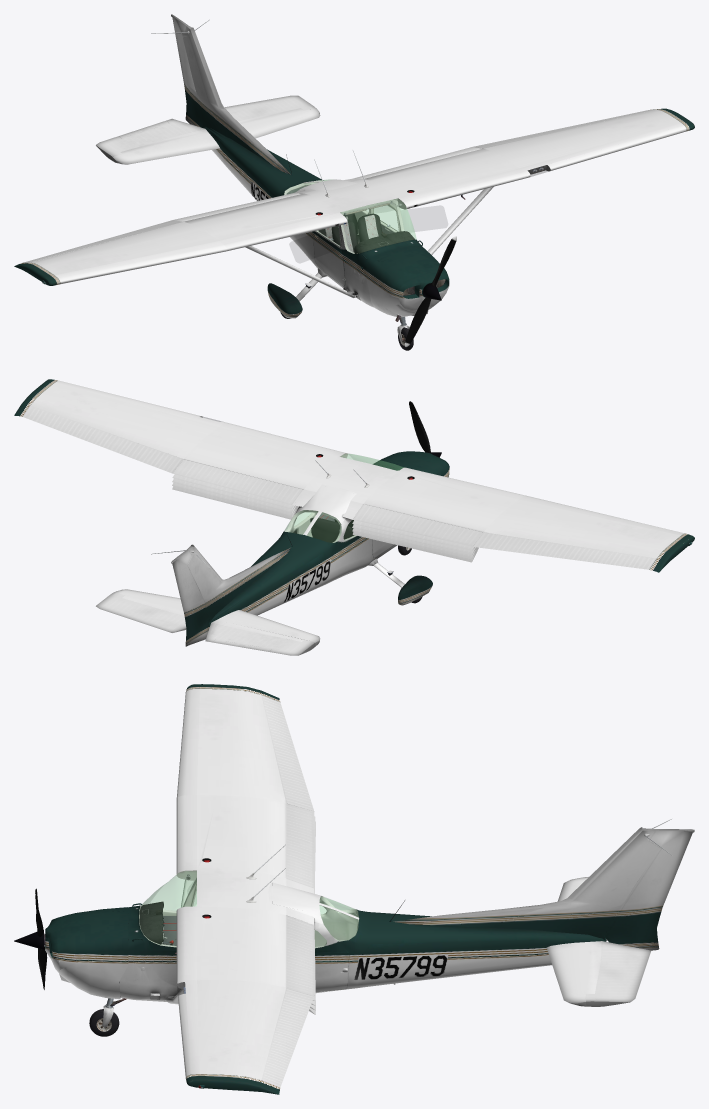
Rendered from N35799_HD_livery.gltf.
3 renders of one model, top to bottom at view 1: azimuth 30°, elevation 25°; view 2: azimuth 150°, elevation 25°; view 3: azimuth 270°, elevation 25°, orthographic. The views are drawn at different scales.
Visible parts, largest first — view 1: Exterior, XLive_6, XLive_0, XLive_5, Pose_flaps_0, XLive_8, XLive_9; view 2: Exterior, Pose_flaps_0, XLive_9, XLive_8, XLive_0, XLive_5, XLive_6, Pose_flaps_1, Pose_flaps_2, Pose_flaps_3, Pose_flaps_4; view 3: Exterior, XLive_0, Pose_flaps_0, XLive_5, XLive_8, XLive_9.
Boxes of the visible parts, x1,y1,x2,y2 form: Exterior: (14,19,694,350); XLive_6: (96,118,203,160); XLive_0: (171,14,204,128); XLive_5: (224,95,315,120); Pose_flaps_0: (173,147,482,221); XLive_8: (473,109,655,148); XLive_9: (24,220,183,262); Exterior: (14,379,694,646); Pose_flaps_0: (173,459,482,546); XLive_9: (472,532,656,569); XLive_8: (23,406,183,473); XLive_0: (171,549,209,646); XLive_5: (96,592,186,632); XLive_6: (205,623,315,655); Pose_flaps_1: (172,474,474,550); Pose_flaps_2: (172,478,476,554); Pose_flaps_3: (172,482,477,558); Pose_flaps_4: (172,486,478,562); Exterior: (14,684,671,1094); XLive_0: (604,829,694,950); Pose_flaps_0: (286,803,314,995); XLive_5: (586,941,650,1006); XLive_8: (261,988,314,1087); XLive_9: (261,695,314,811).
Bounding box in the file's own units: 11.32 × 2.77 × 8.17.
145 materials, 135 textured.
